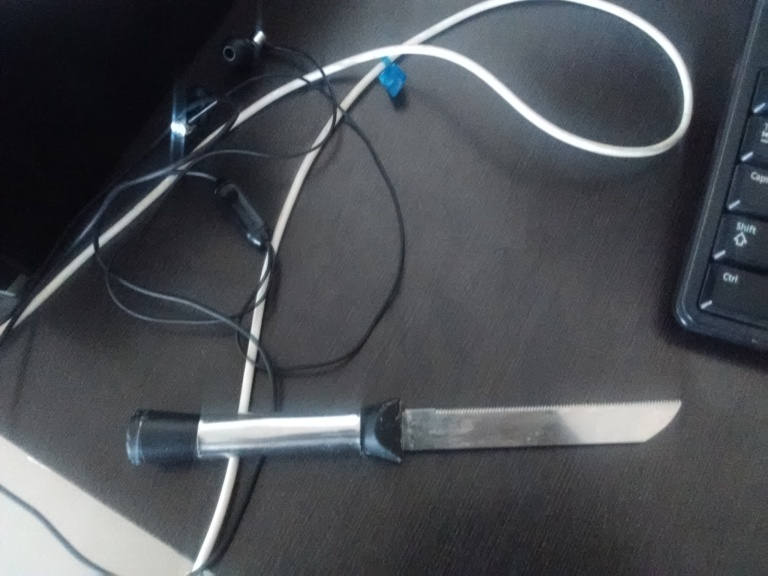knife: (122, 390, 688, 470)
